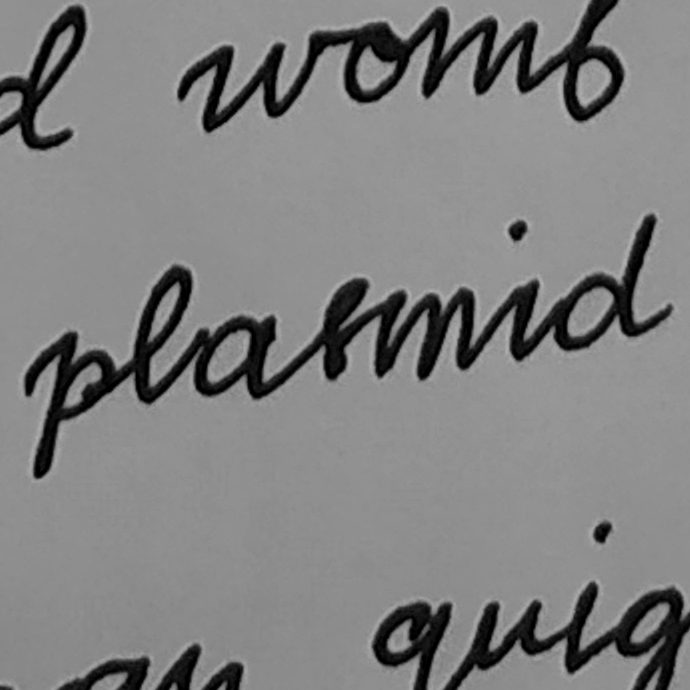a: (189, 309, 285, 402)
d: (544, 207, 677, 354)
i: (491, 216, 543, 367)
l: (126, 259, 198, 408)
m: (372, 282, 483, 384)
p: (22, 325, 123, 482)
s: (309, 271, 372, 386)
